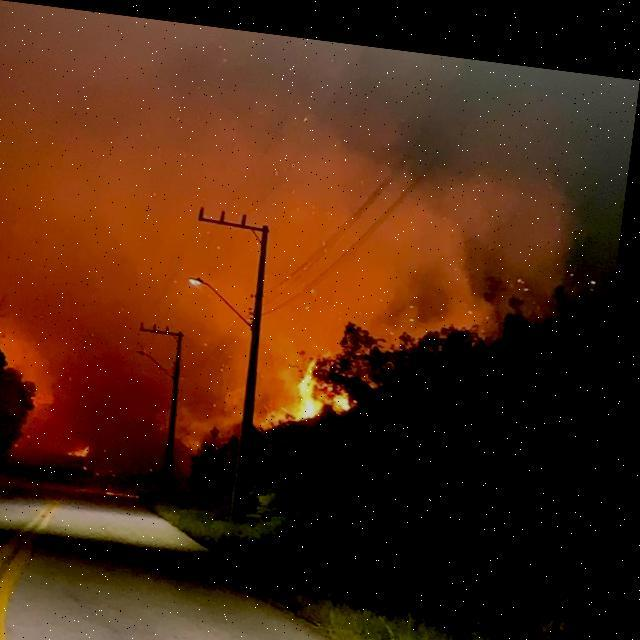Fire: (274, 334, 371, 428), (76, 438, 103, 457)
